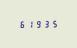five: (50, 19, 57, 27)
nine: (34, 20, 41, 27)
one: (26, 20, 33, 28)
six: (18, 20, 25, 28)
three: (42, 19, 49, 27)
